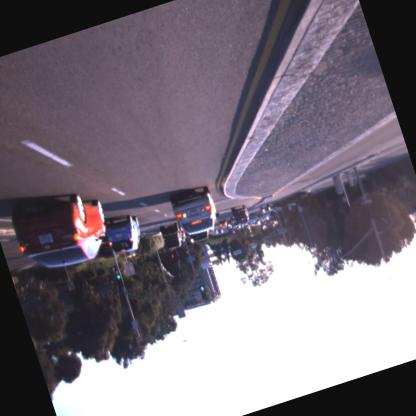trafficlight: (113, 270, 126, 290), (198, 284, 209, 302)
